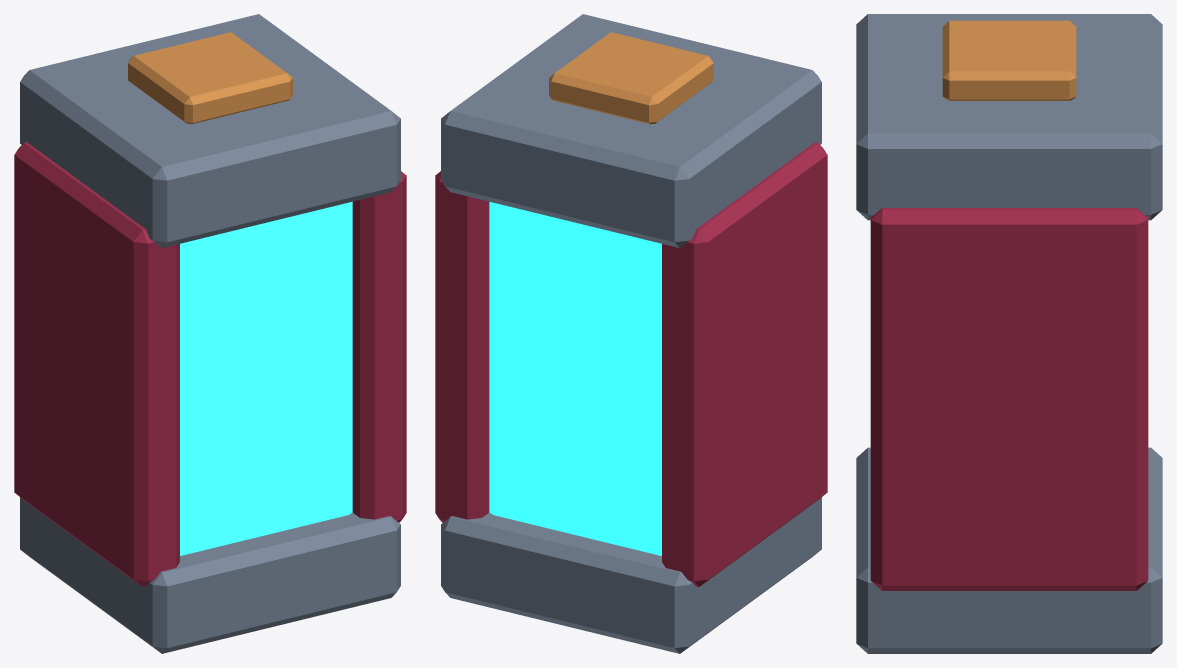
Rendered from power-cell.glb.
The picture shows the model from 3 angles, left to right: view 1: azimuth 30°, elevation 25°; view 2: azimuth 150°, elevation 25°; view 3: azimuth 270°, elevation 25°; orthographic projection. The views are drawn at different scales.
Parts seen in each view (by area): view 1: GEO-power-cell; view 2: GEO-power-cell; view 3: GEO-power-cell.
Boxes of the visible parts, box(x1,y1,x2,y2) form: GEO-power-cell: box(14, 14, 406, 653); GEO-power-cell: box(435, 14, 827, 653); GEO-power-cell: box(856, 14, 1162, 653).
Bounding box in the file's own units: 0.176 × 0.316 × 0.16.
